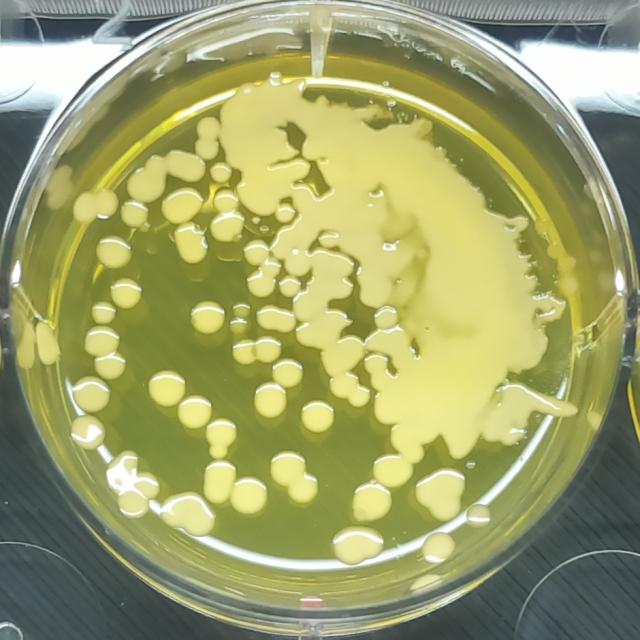StaphyloPositive: (269, 444, 323, 510), (418, 466, 468, 524), (330, 522, 387, 569), (82, 326, 127, 382), (348, 479, 394, 521), (159, 185, 204, 224), (230, 335, 284, 367), (146, 366, 187, 408), (174, 218, 210, 265), (72, 375, 114, 415), (200, 461, 237, 506), (205, 417, 241, 462), (231, 476, 269, 518), (68, 414, 108, 452), (177, 392, 213, 434), (253, 380, 290, 420), (372, 453, 414, 486), (300, 398, 336, 436), (93, 234, 132, 269), (194, 114, 221, 164), (188, 300, 226, 335), (257, 302, 297, 334), (109, 275, 144, 311), (421, 530, 456, 564), (273, 357, 305, 388), (119, 199, 151, 228), (90, 299, 116, 326), (278, 273, 303, 300), (209, 158, 234, 184)
